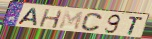9: (104, 14, 122, 34)
A: (16, 7, 38, 27)
C: (80, 13, 104, 33)
H: (38, 8, 65, 29)
M: (58, 10, 85, 32)
T: (126, 16, 144, 36)
